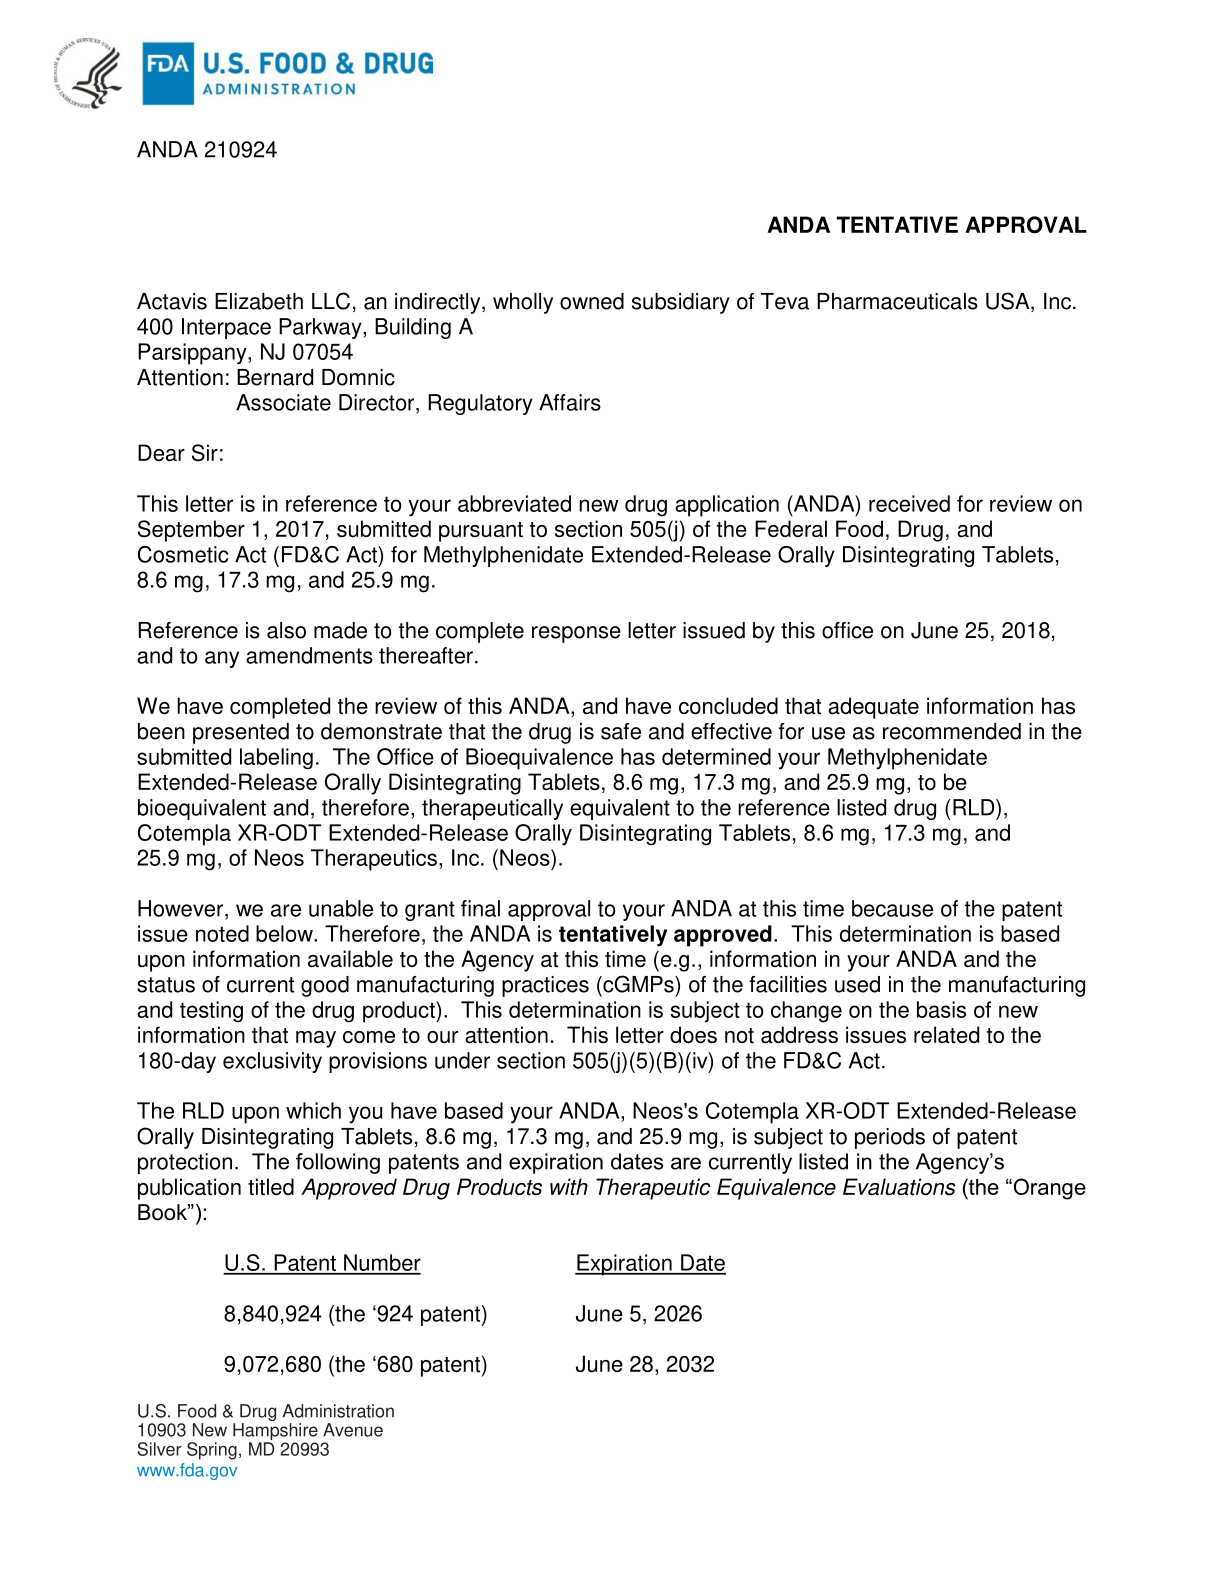nolines: (221, 1247, 726, 1377)
